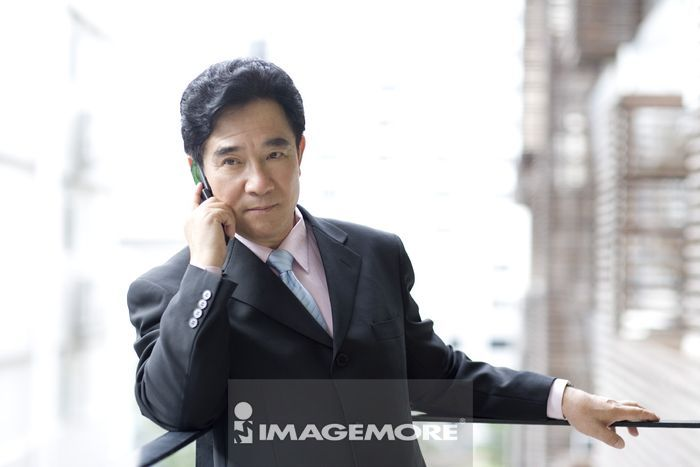talk: (182, 132, 296, 272)
